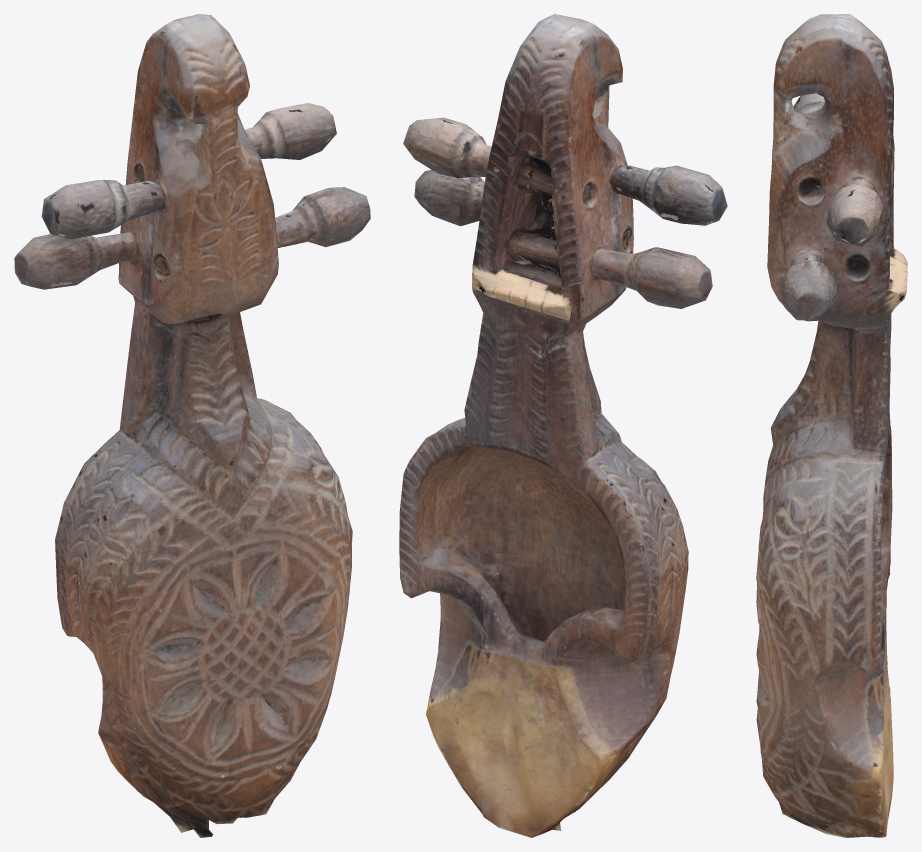
Rendered from low_poly_sarangi_photogrammetry.glb.
The picture shows the model from 3 angles, left to right: view 1: azimuth 30°, elevation 25°; view 2: azimuth 150°, elevation 25°; view 3: azimuth 270°, elevation 25°; orthographic projection.
Parts seen in each view (by area): view 1: sarangi low poly_0; view 2: sarangi low poly_0; view 3: sarangi low poly_0.
Part boxes in pixels (left/top/right/bottom): sarangi low poly_0: left=14, top=14, right=370, bottom=837; sarangi low poly_0: left=399, top=14, right=727, bottom=837; sarangi low poly_0: left=756, top=14, right=907, bottom=837.
Bounding box in the file's own units: 0.4404 × 1.08 × 0.1852.
Materials: 1 (1 with a texture image).
